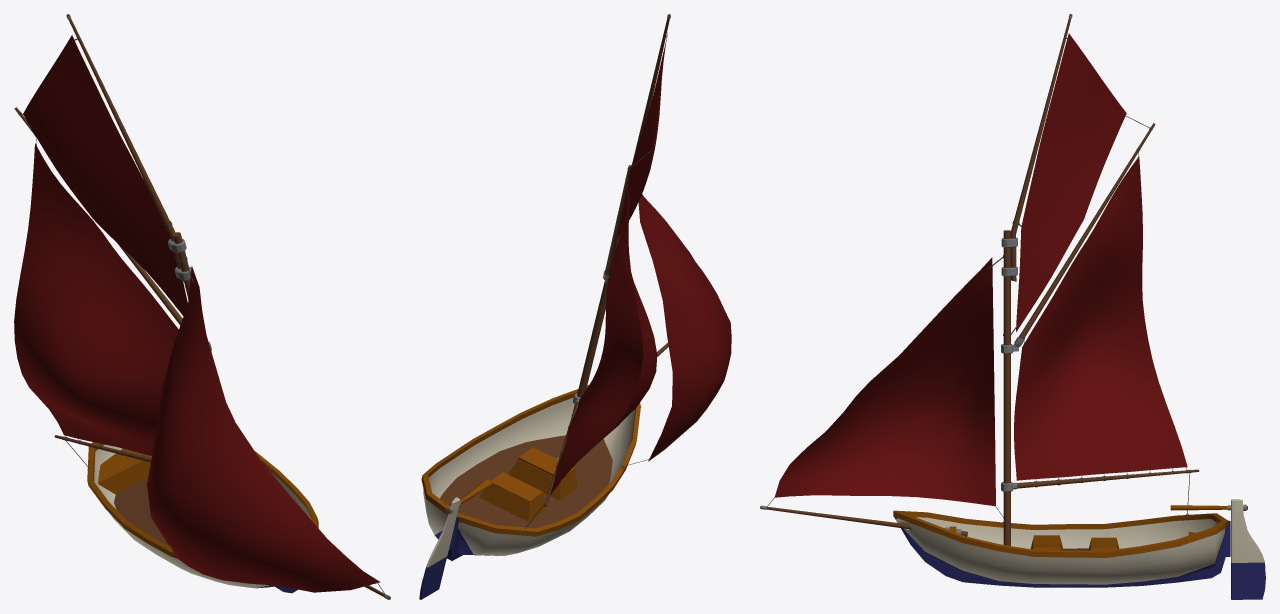
File: boat.glb
3 renders of one model, left to right at view 1: azimuth 30°, elevation 25°; view 2: azimuth 150°, elevation 25°; view 3: azimuth 270°, elevation 25°, orthographic. The views are drawn at different scales.
Parts seen in each view (by area): view 1: pCube31; view 2: pCube31; view 3: pCube31.
Boxes of the visible parts, left/top/right/bottom form: pCube31: left=14, top=14, right=390, bottom=599; pCube31: left=419, top=14, right=731, bottom=599; pCube31: left=760, top=14, right=1265, bottom=599.
Bounding box in the file's own units: 6.48 × 16 × 14.16.
